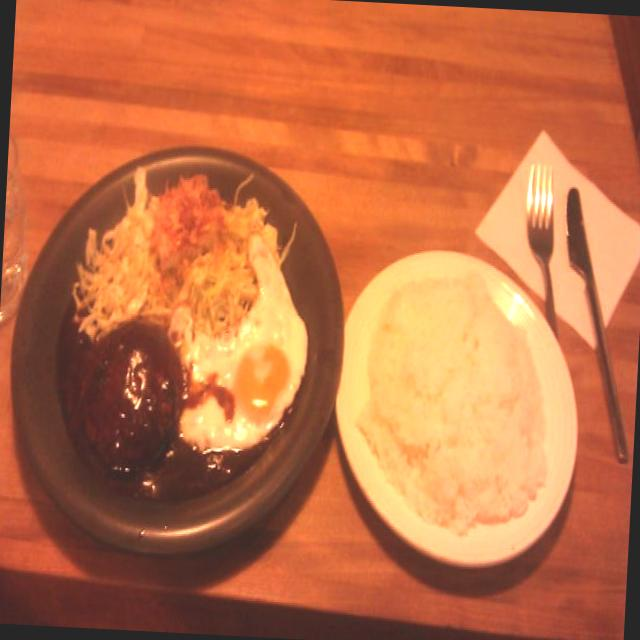Egg: (194, 266, 308, 444)
Rice: (356, 264, 557, 522)
